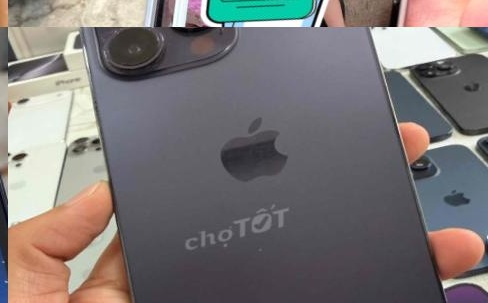screen_defect: (161, 0, 216, 22), (144, 10, 212, 27)
